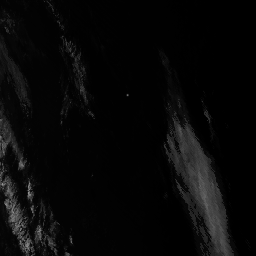Target: (125, 92, 130, 97)
